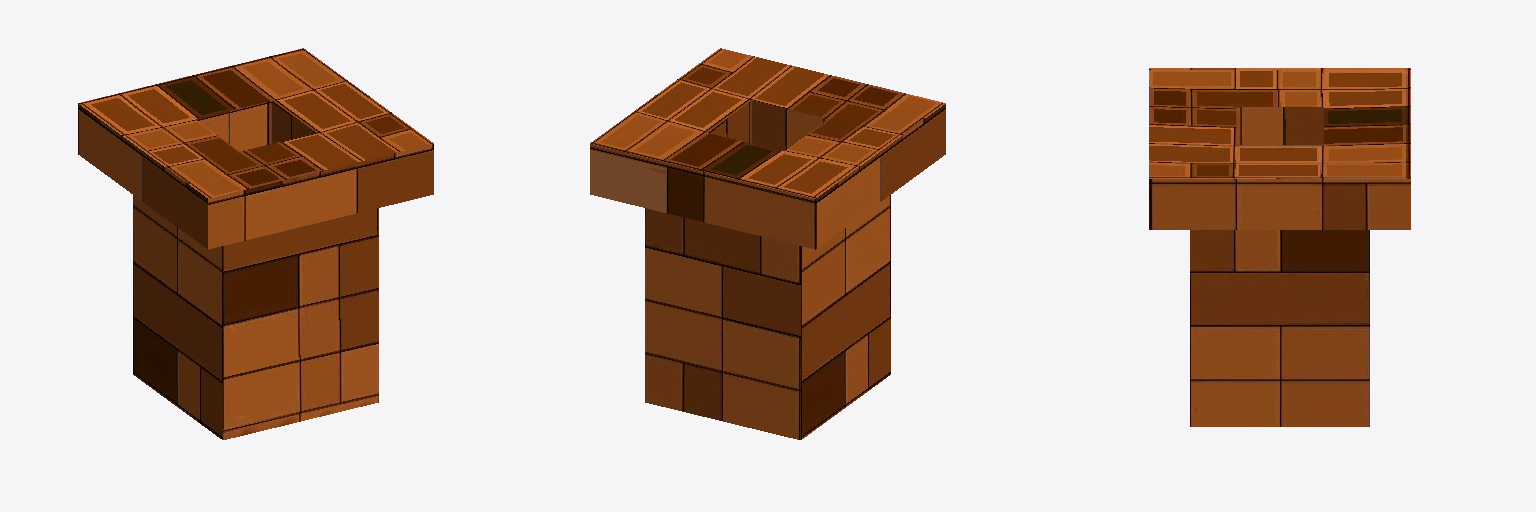
3 views of the same model, side by side, from view 1: azimuth 30°, elevation 25°; view 2: azimuth 150°, elevation 25°; view 3: azimuth 270°, elevation 25° (orthographic).
Visible parts, largest first — view 1: Cube_Cube.001; view 2: Cube_Cube.001; view 3: Cube_Cube.001.
Part boxes in pixels (left/top/right/bottom): Cube_Cube.001: left=78, top=48, right=433, bottom=439; Cube_Cube.001: left=590, top=48, right=945, bottom=439; Cube_Cube.001: left=1149, top=68, right=1410, bottom=426.
Bounding box in the file's own units: 2.9 × 3.25 × 2.9.
Materials: 1 (1 with a texture image).